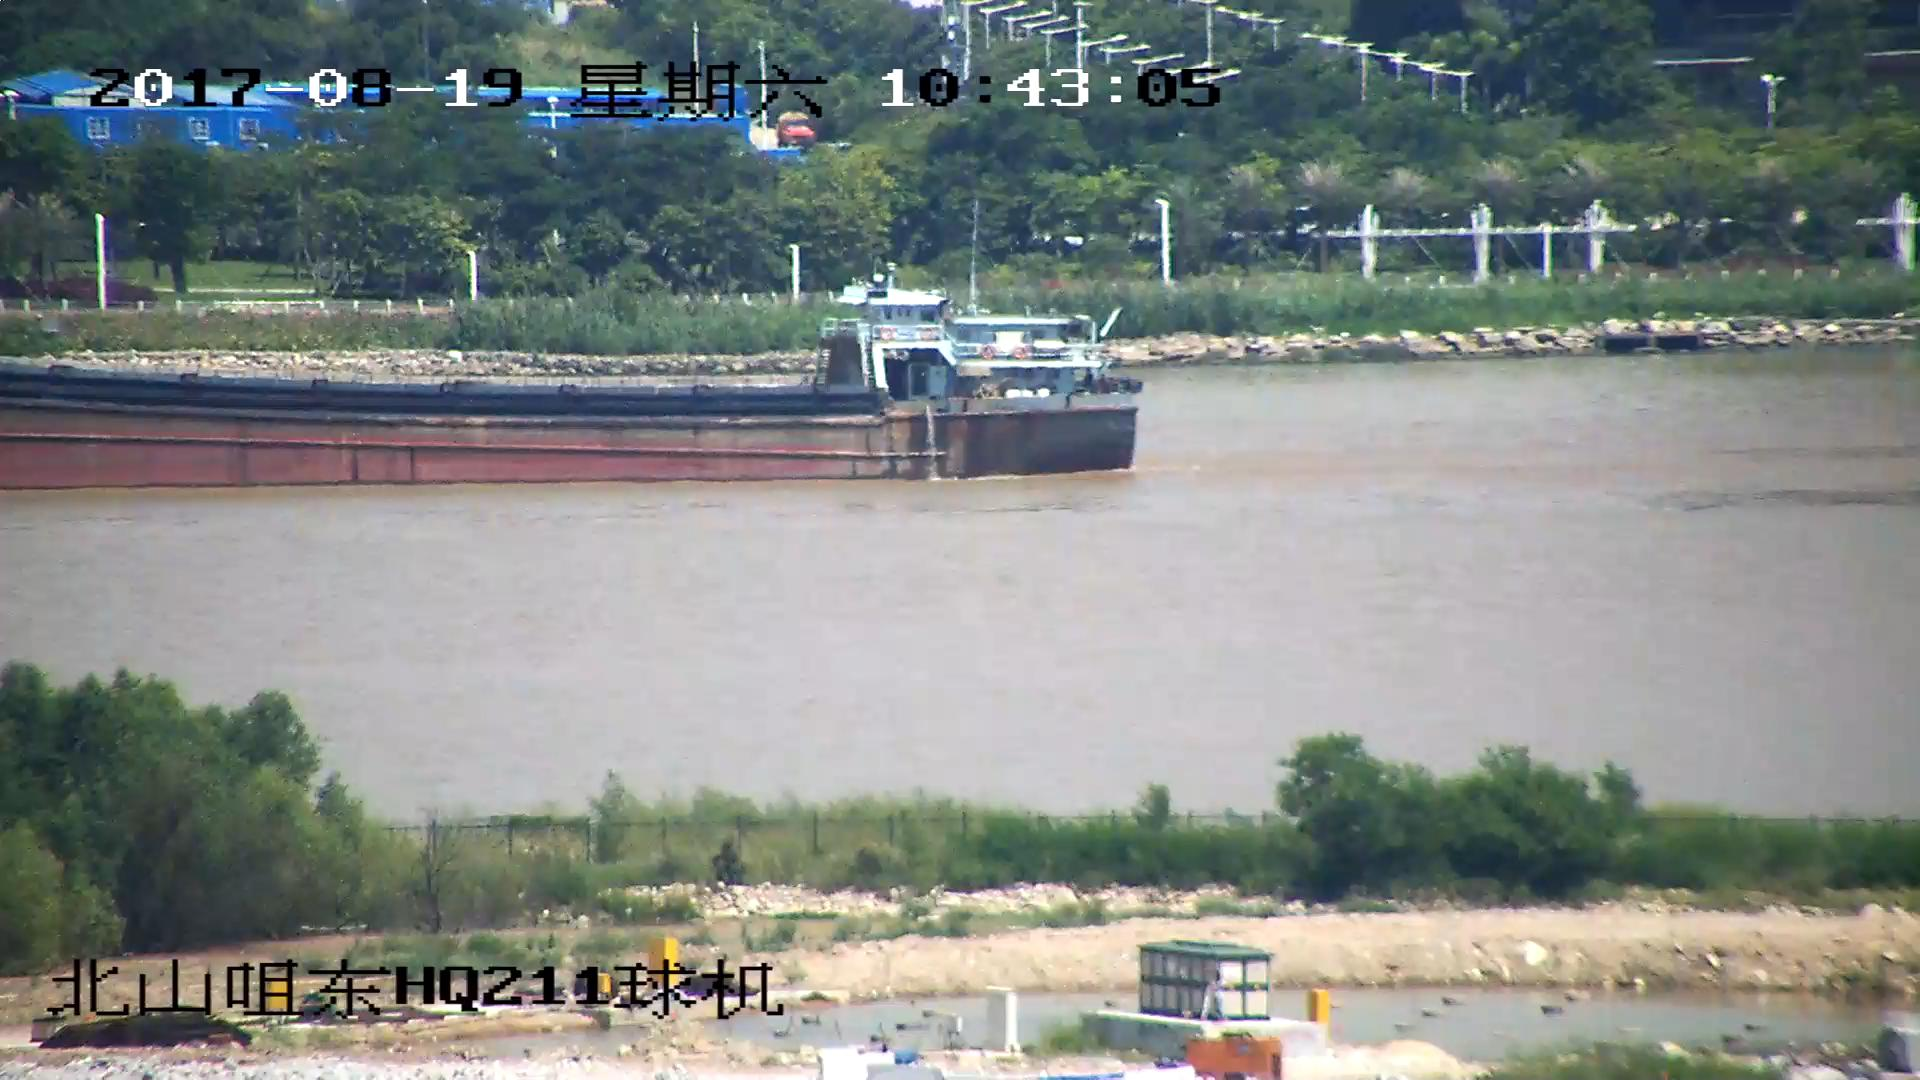bulk cargo carrier: (1, 269, 1142, 488)
